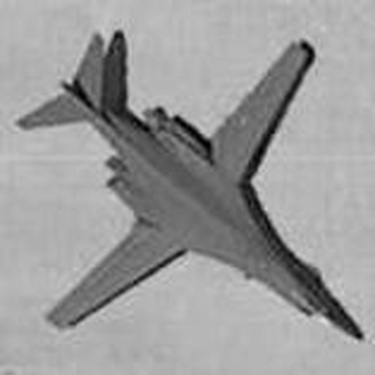airplane: (5, 16, 369, 352)
